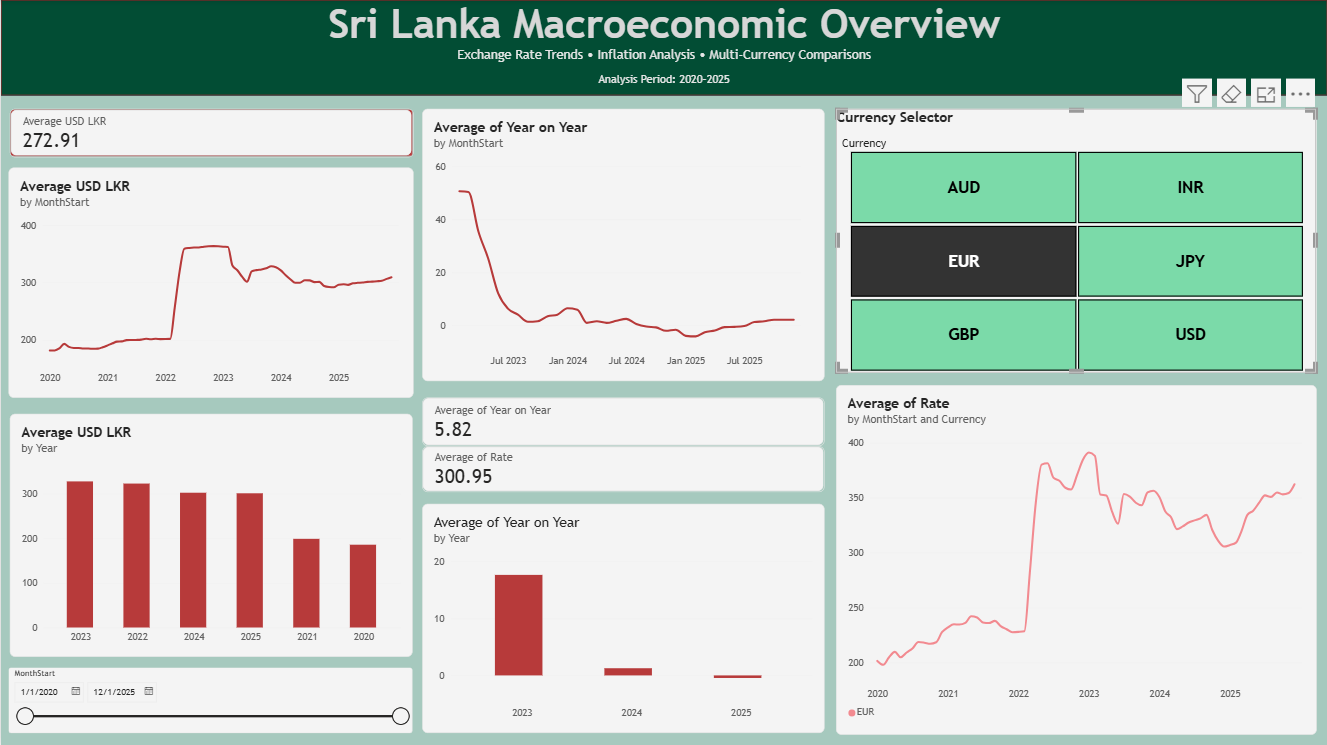

The page's visual inventory and layout, read from the dashboard file:
{"tool":"powerbi","page":{"name":"Sri Lanka Macroeconomic Overview","canvas":[1920,1080],"ordinal":0},"visuals":[{"type":"shape","box":[0,0,1920,138],"z":0},{"type":"cardVisual","fields":{"Data":["ExchangeRates.Average USD LKR"]},"box":[12.7,157.4,584.5,70.6],"z":1000},{"type":"lineChart","fields":{"Category":["DimMonth.MonthStart"],"Y":["ExchangeRates.Average USD LKR"]},"box":[10,243.3,586.7,333.3],"z":2000},{"type":"slicer","fields":{"Values":["DimMonth.MonthStart"]},"box":[11.7,966.7,585,95],"z":3000},{"type":"lineChart","fields":{"Category":["DimMonth.MonthStart"],"Y":["Avg(InflationData.Year on Year)"]},"box":[610,158,582,394],"z":4000},{"type":"cardVisual","fields":{"Data":["Avg(InflationData.Year on Year)"]},"box":[610,576,582,70],"z":5000},{"type":"clusteredColumnChart","fields":{"Category":["ExchangeRates.Year"],"Y":["ExchangeRates.Average USD LKR"]},"box":[13.3,598.3,583.3,351.7],"z":6000},{"type":"clusteredColumnChart","fields":{"Category":["InflationData.Year"],"Y":["Avg(InflationData.Year on Year)"]},"box":[610,730,582,332],"z":7000},{"type":"slicer","title":"Currency Selector","fields":{"Values":["CurrencyRates.Currency"]},"box":[1208,158,696,382],"z":8000},{"type":"lineChart","fields":{"Category":["DimMonth.MonthStart"],"Series":["CurrencyRates.Currency"],"Y":["Avg(CurrencyRates.Rate)"]},"box":[1208,558,696,506],"z":9000},{"type":"cardVisual","fields":{"Data":["Avg(CurrencyRates.Rate)"]},"box":[610,646,582,66],"z":10000},{"type":"textbox","box":[0,0,1920,138],"z":11000}]}

Visuals, with their boxes on the page's 1920x1080 design canvas (x1, y1, x2, y2). These are canvas units, not pixel positions in the 1327x745 screenshot, which may show the page scaled, cropped or inside an application window:
shape: select_region(0, 0, 1920, 138)
cardVisual - ExchangeRates.Average USD LKR: select_region(13, 157, 597, 228)
lineChart - DimMonth.MonthStart x ExchangeRates.Average USD LKR: select_region(10, 243, 597, 577)
slicer - DimMonth.MonthStart: select_region(12, 967, 597, 1062)
lineChart - DimMonth.MonthStart x Avg(InflationData.Year on Year): select_region(610, 158, 1192, 552)
cardVisual - Avg(InflationData.Year on Year): select_region(610, 576, 1192, 646)
clusteredColumnChart - ExchangeRates.Year x ExchangeRates.Average USD LKR: select_region(13, 598, 597, 950)
clusteredColumnChart - InflationData.Year x Avg(InflationData.Year on Year): select_region(610, 730, 1192, 1062)
"Currency Selector" slicer: select_region(1208, 158, 1904, 540)
lineChart - DimMonth.MonthStart x CurrencyRates.Currency: select_region(1208, 558, 1904, 1064)
cardVisual - Avg(CurrencyRates.Rate): select_region(610, 646, 1192, 712)
textbox: select_region(0, 0, 1920, 138)
